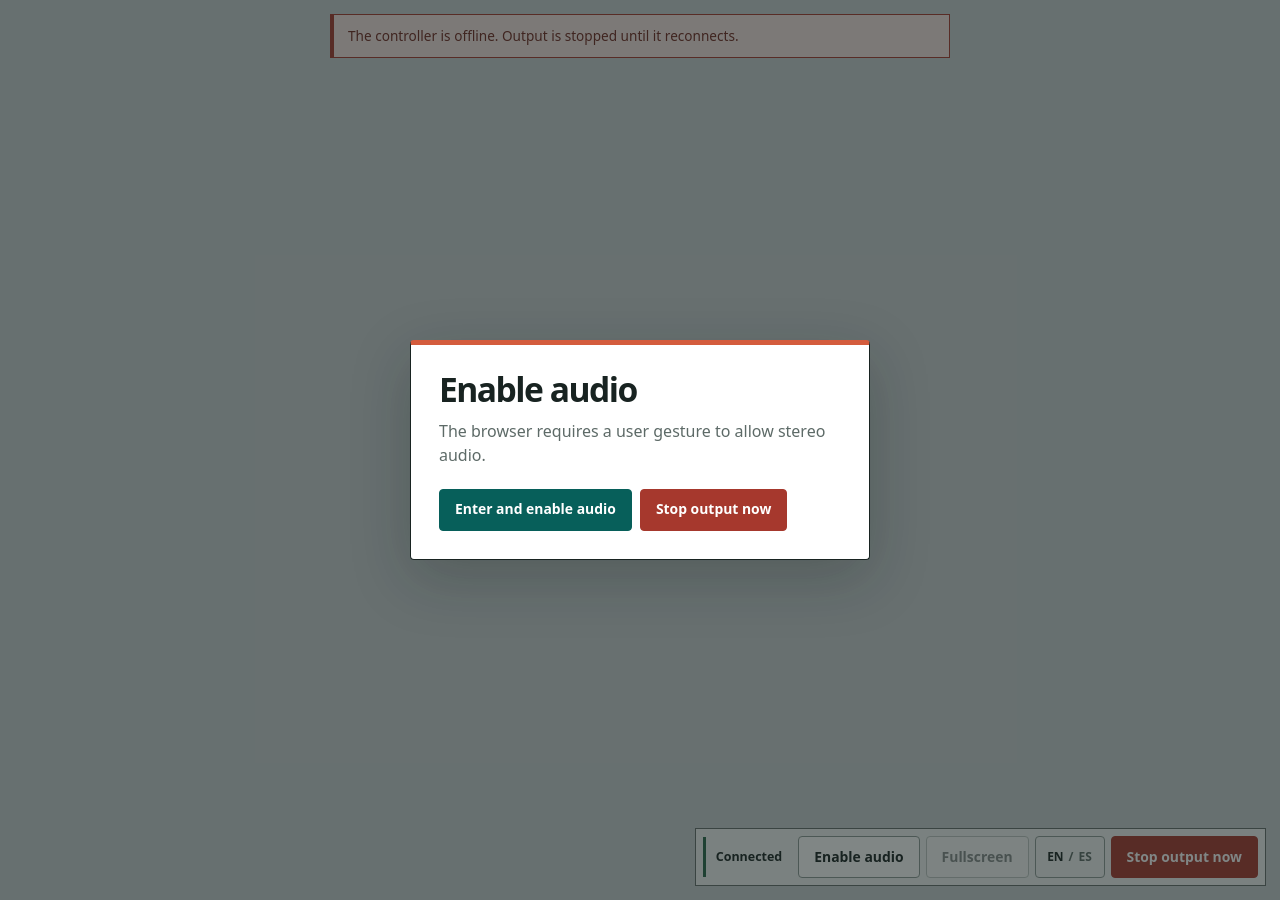
Test: ClientSessionPage › unlocks audio without exposing tactile setup controls
Expected: the dialog "Enable audio" is shown, [410,340,870,560]
Expected: the text "The browser requires a user gesture to allow stereo audio." is shown, [439,419,841,467]
Click the button "Enter and enable audio" at {"x": 535, "y": 510}, box [439,489,632,531]
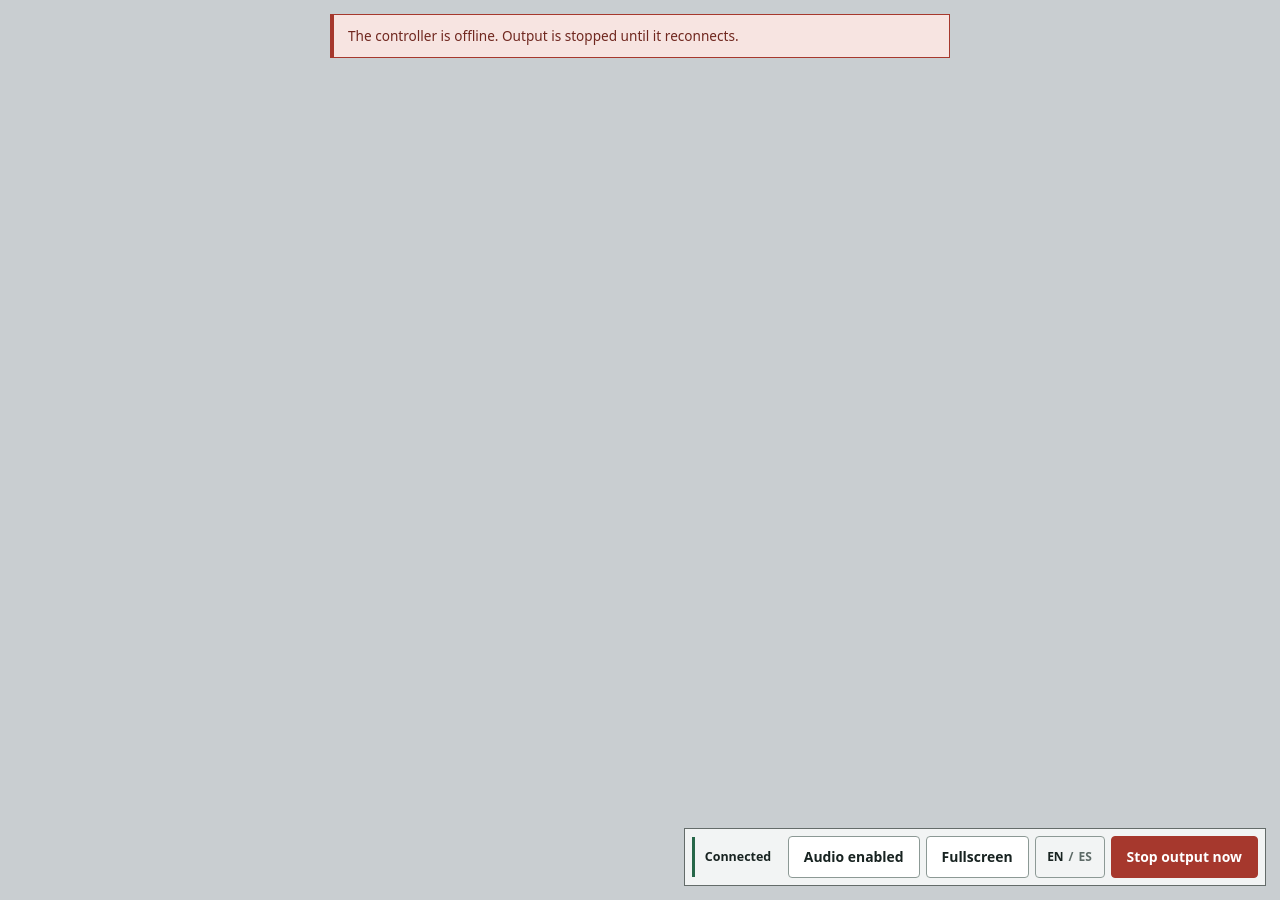
Expected: the button "Audio enabled" is shown, [788,836,920,878]
Expected: the text "The browser requires a user gesture to allow stereo audio." is gone
